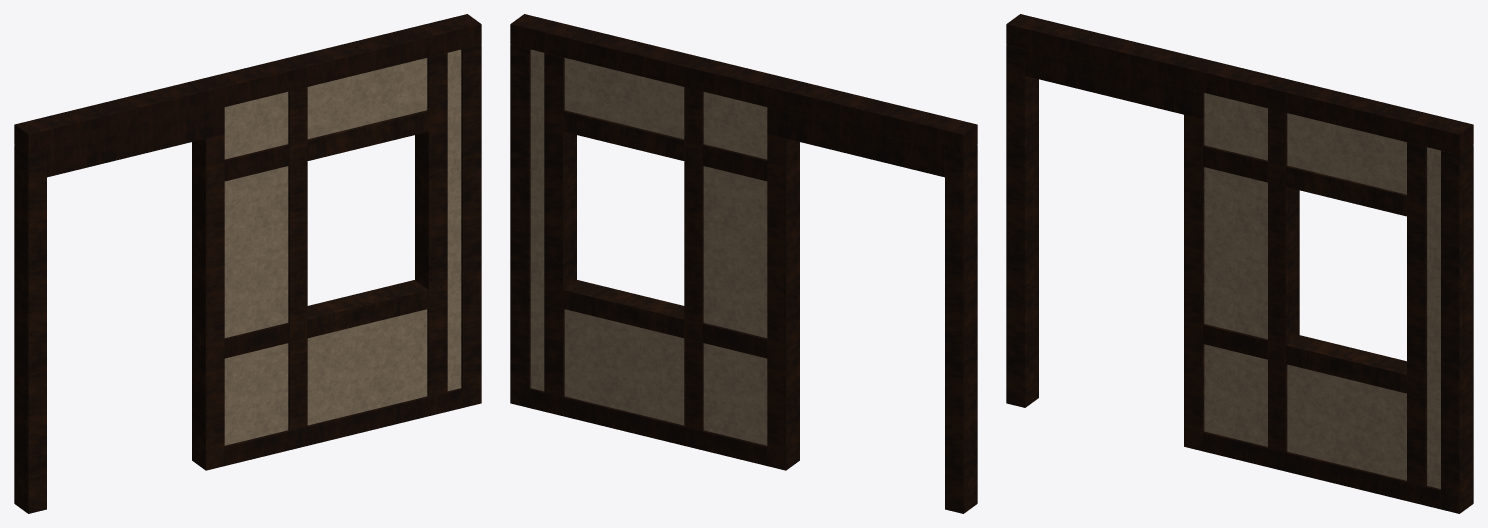
The picture shows the model from 3 angles, left to right: view 1: azimuth 30°, elevation 25°; view 2: azimuth 150°, elevation 25°; view 3: azimuth 330°, elevation 25°; orthographic projection.
Parts seen in each view (by area): view 1: FT_044_crown_beam, FT_044_left_outer_post, FT_044_door_right_post, FT_044_plaster_below_window, FT_044_centre_plaster_middle, FT_044_window_right_post, FT_044_right_outer_post, FT_044_window_left_post, FT_044_plaster_above_window, FT_044_centre_plaster_lower, FT_044_right_plaster_strip, FT_044_base_rail (+6 smaller); view 2: FT_044_crown_beam, FT_044_left_outer_post, FT_044_door_right_post, FT_044_plaster_below_window, FT_044_centre_plaster_middle, FT_044_window_right_post, FT_044_right_outer_post, FT_044_window_left_post, FT_044_plaster_above_window, FT_044_centre_plaster_lower, FT_044_right_plaster_strip, FT_044_base_rail (+6 smaller); view 3: FT_044_crown_beam, FT_044_right_outer_post, FT_044_left_outer_post, FT_044_plaster_below_window, FT_044_centre_plaster_middle, FT_044_window_left_post, FT_044_door_right_post, FT_044_window_right_post, FT_044_plaster_above_window, FT_044_centre_plaster_lower, FT_044_door_lintel, FT_044_base_rail (+6 smaller).
Part boxes in pixels (x1,y1,x2,y2): FT_044_crown_beam: (14, 14, 481, 154); FT_044_left_outer_post: (14, 145, 46, 513); FT_044_door_right_post: (192, 134, 224, 470); FT_044_plaster_below_window: (307, 309, 427, 425); FT_044_centre_plaster_middle: (224, 166, 288, 337); FT_044_window_right_post: (415, 53, 447, 397); FT_044_right_outer_post: (461, 44, 481, 407); FT_044_window_left_post: (288, 87, 307, 430); FT_044_plaster_above_window: (307, 58, 427, 139); FT_044_centre_plaster_lower: (224, 343, 288, 445); FT_044_right_plaster_strip: (447, 49, 461, 391); FT_044_base_rail: (224, 388, 462, 465); FT_044_crown_beam: (510, 14, 977, 154); FT_044_left_outer_post: (945, 145, 977, 513); FT_044_door_right_post: (767, 134, 799, 470); FT_044_plaster_below_window: (564, 309, 684, 425); FT_044_centre_plaster_middle: (703, 166, 767, 337); FT_044_window_right_post: (544, 53, 576, 397); FT_044_right_outer_post: (510, 44, 530, 407); FT_044_window_left_post: (684, 87, 703, 430); FT_044_plaster_above_window: (564, 58, 684, 139); FT_044_centre_plaster_lower: (703, 343, 767, 445); FT_044_right_plaster_strip: (530, 49, 544, 391); FT_044_base_rail: (529, 388, 767, 465); FT_044_crown_beam: (1006, 14, 1473, 154); FT_044_right_outer_post: (1441, 145, 1473, 513); FT_044_left_outer_post: (1006, 44, 1038, 407); FT_044_plaster_below_window: (1287, 364, 1406, 480); FT_044_centre_plaster_middle: (1204, 167, 1267, 339); FT_044_window_left_post: (1268, 108, 1299, 452); FT_044_door_right_post: (1184, 115, 1204, 451); FT_044_window_right_post: (1407, 142, 1426, 486); FT_044_plaster_above_window: (1287, 113, 1406, 194); FT_044_centre_plaster_lower: (1204, 344, 1267, 446); FT_044_door_lintel: (1025, 49, 1204, 119); FT_044_base_rail: (1203, 431, 1440, 509).
Size of the model in its own units: 3 by 2.4 by 0.16.
Materials: 3 (3 with a texture image).
